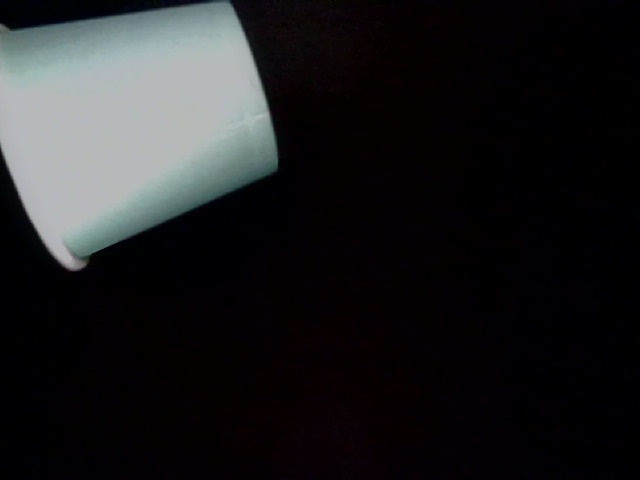CYLJ: (272, 454, 340, 480)
